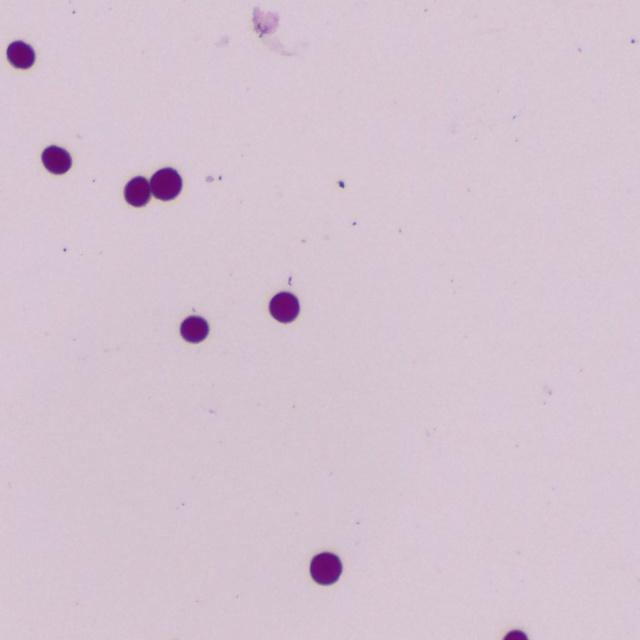viable: (310, 552, 341, 584), (151, 168, 181, 199), (270, 292, 299, 322), (42, 145, 71, 173), (124, 176, 150, 206), (7, 41, 34, 68), (180, 316, 207, 342), (503, 630, 527, 639)
